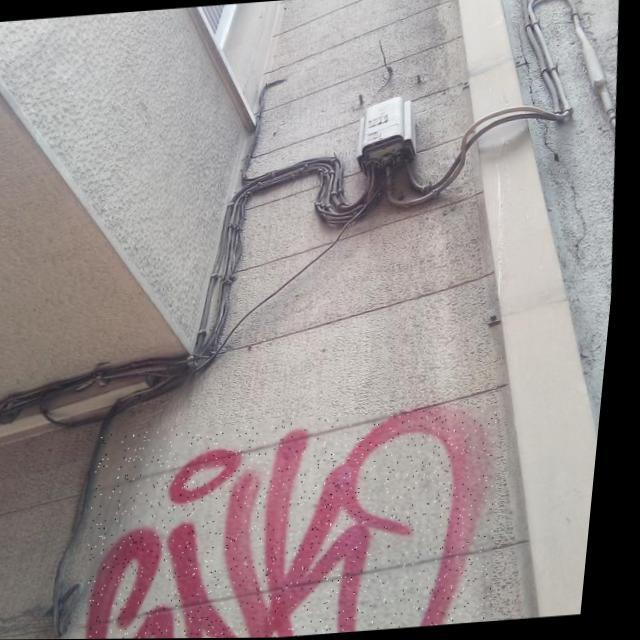-: (83, 405, 520, 639)
